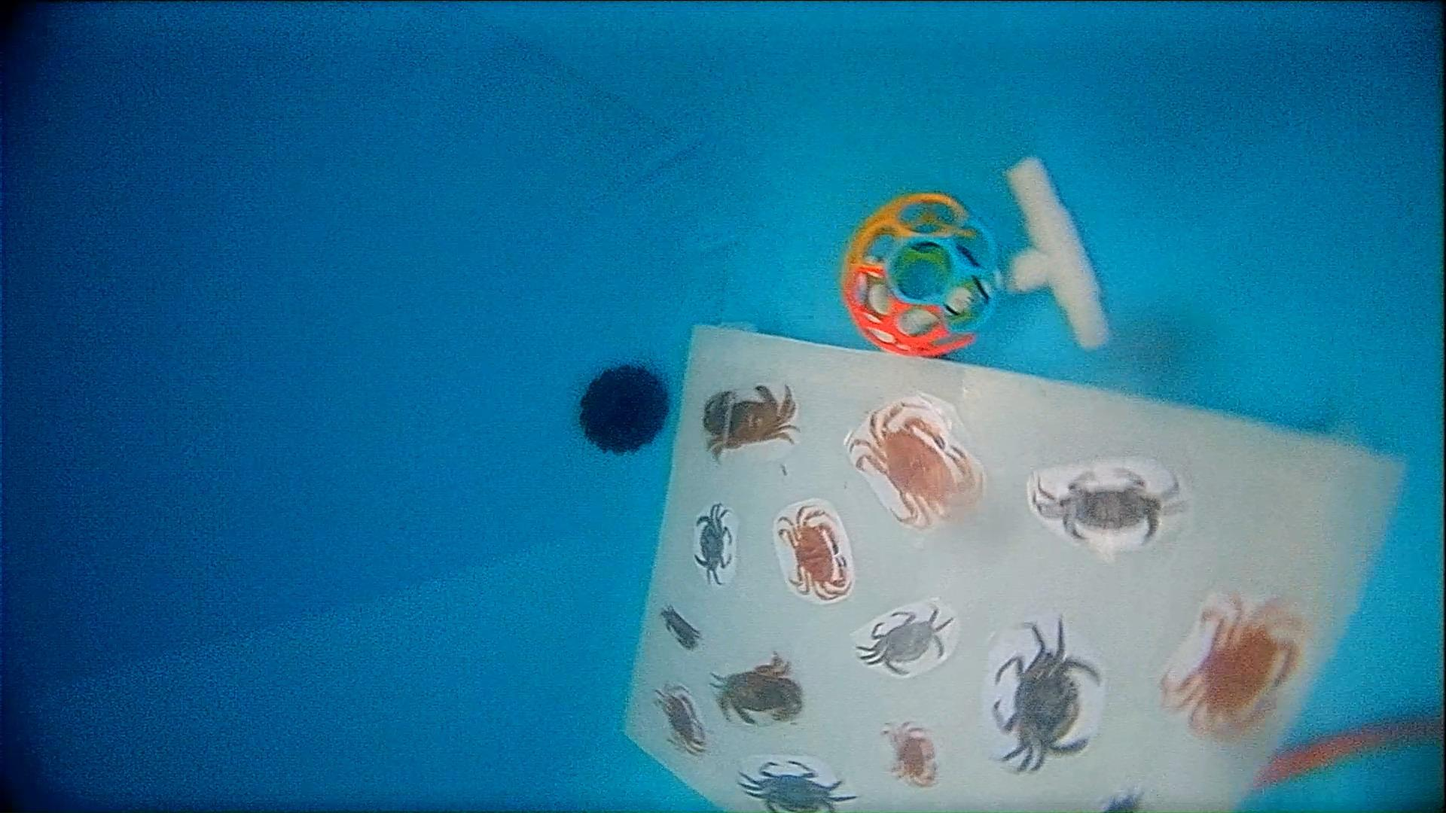GreenCrab: (993, 620, 1101, 772), (1034, 469, 1178, 540), (856, 604, 952, 675), (740, 760, 856, 812), (694, 503, 731, 585)
